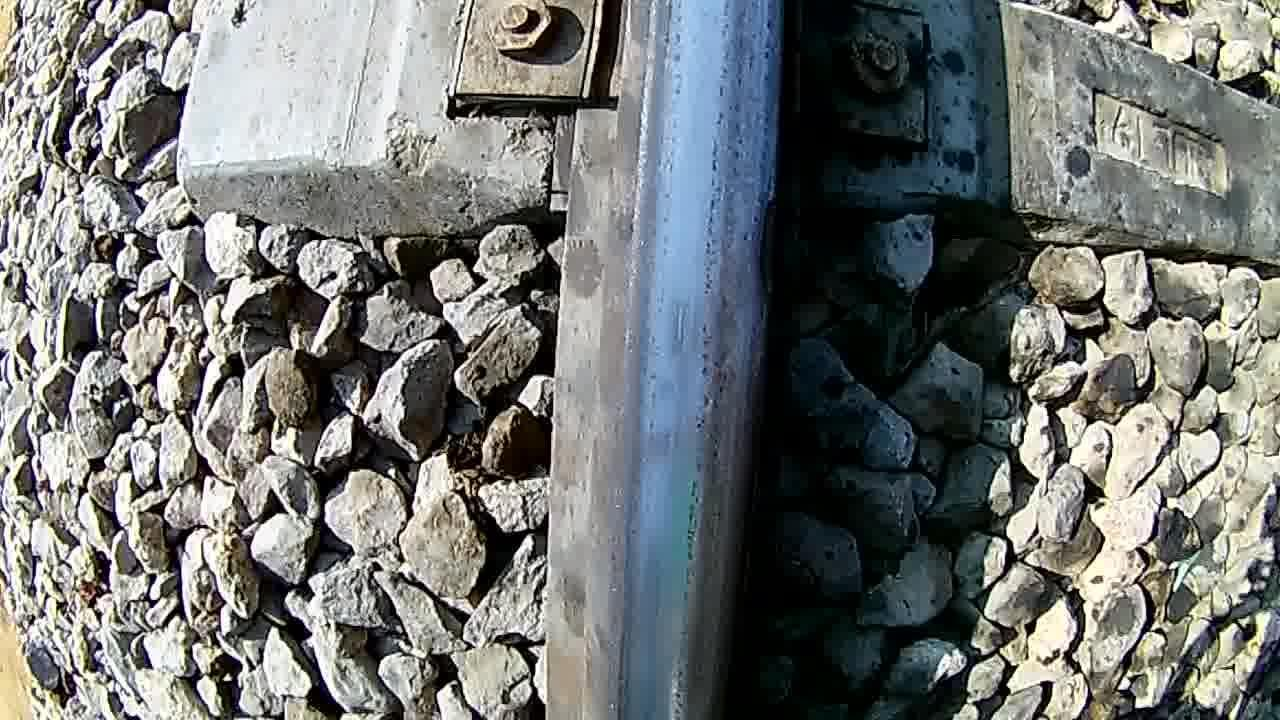crack: (590, 0, 774, 706)
